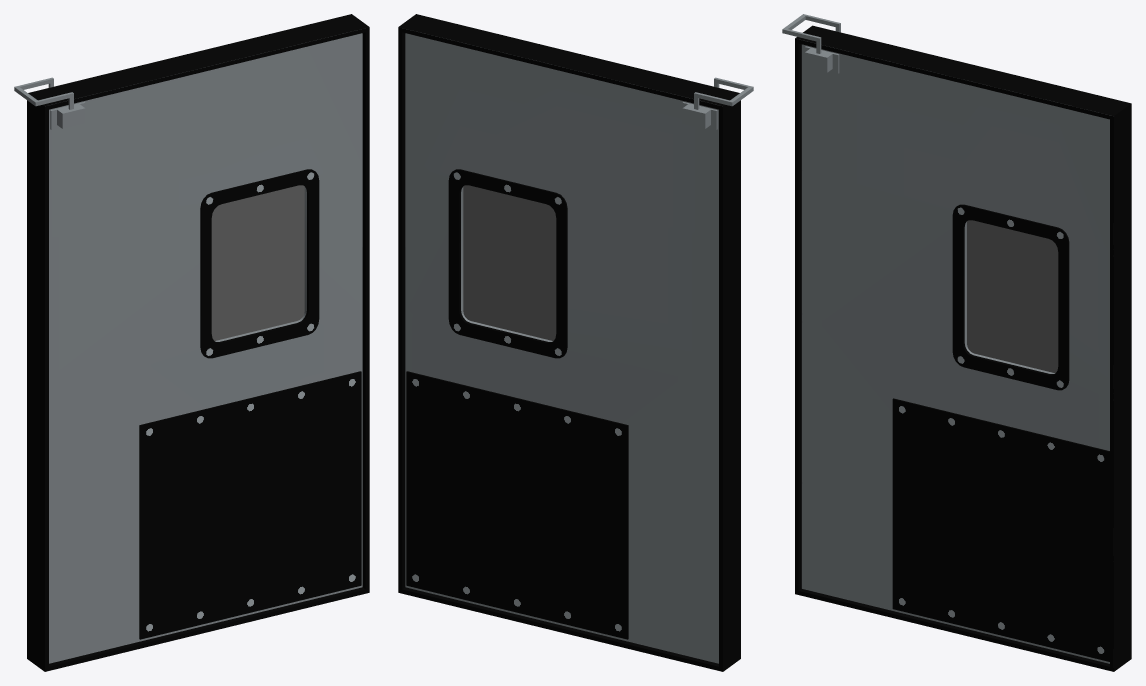
The model's file is doors.fbx.
3 renders of one model, left to right at view 1: azimuth 30°, elevation 25°; view 2: azimuth 150°, elevation 25°; view 3: azimuth 330°, elevation 25°, orthographic.
Visible parts, largest first — view 1: warehouse door; view 2: warehouse door; view 3: warehouse door.
Part boxes in pixels (x1=…): warehouse door: x1=14, y1=14, x2=369, y2=671; warehouse door: x1=398, y1=14, x2=753, y2=671; warehouse door: x1=782, y1=14, x2=1131, y2=671.
Size of the model in its own units: 189 by 309 by 24.79.
